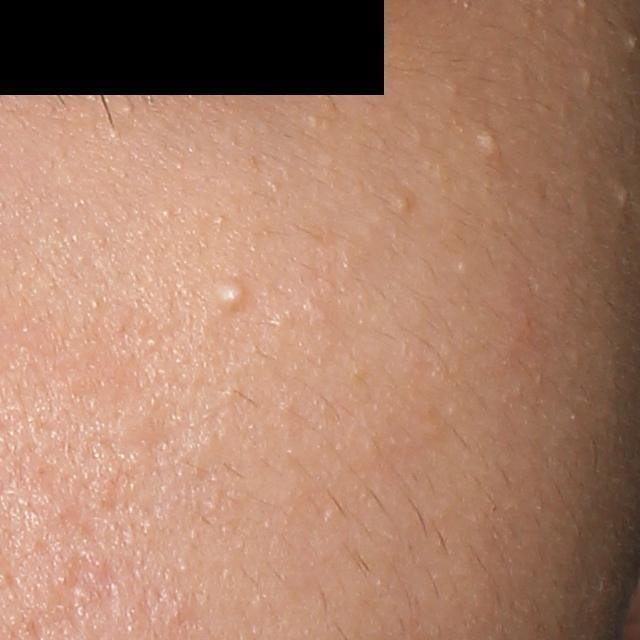other: (219, 280, 250, 313), (479, 132, 498, 154), (627, 32, 638, 54), (121, 101, 138, 113), (583, 69, 591, 90)
